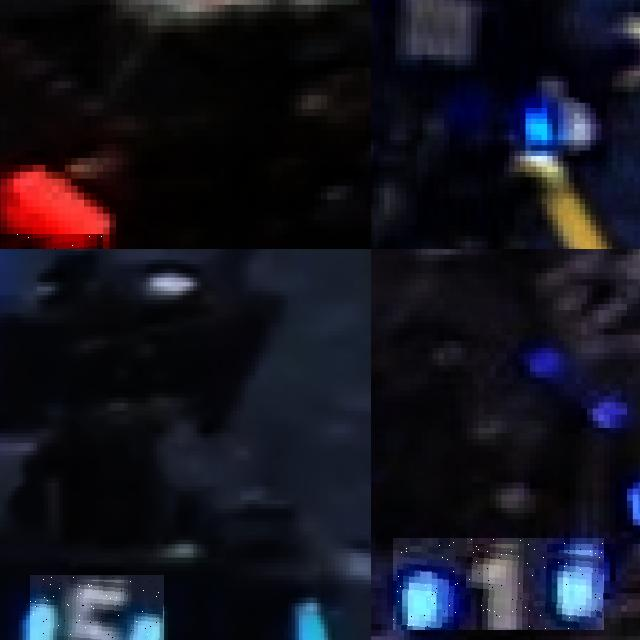B1: (393, 538, 604, 630)
B5: (29, 575, 164, 640)
